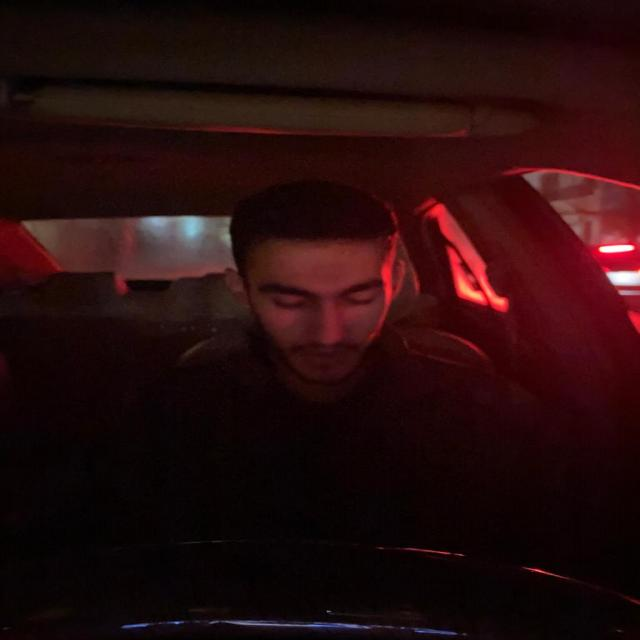drowsy: (228, 180, 420, 393)
